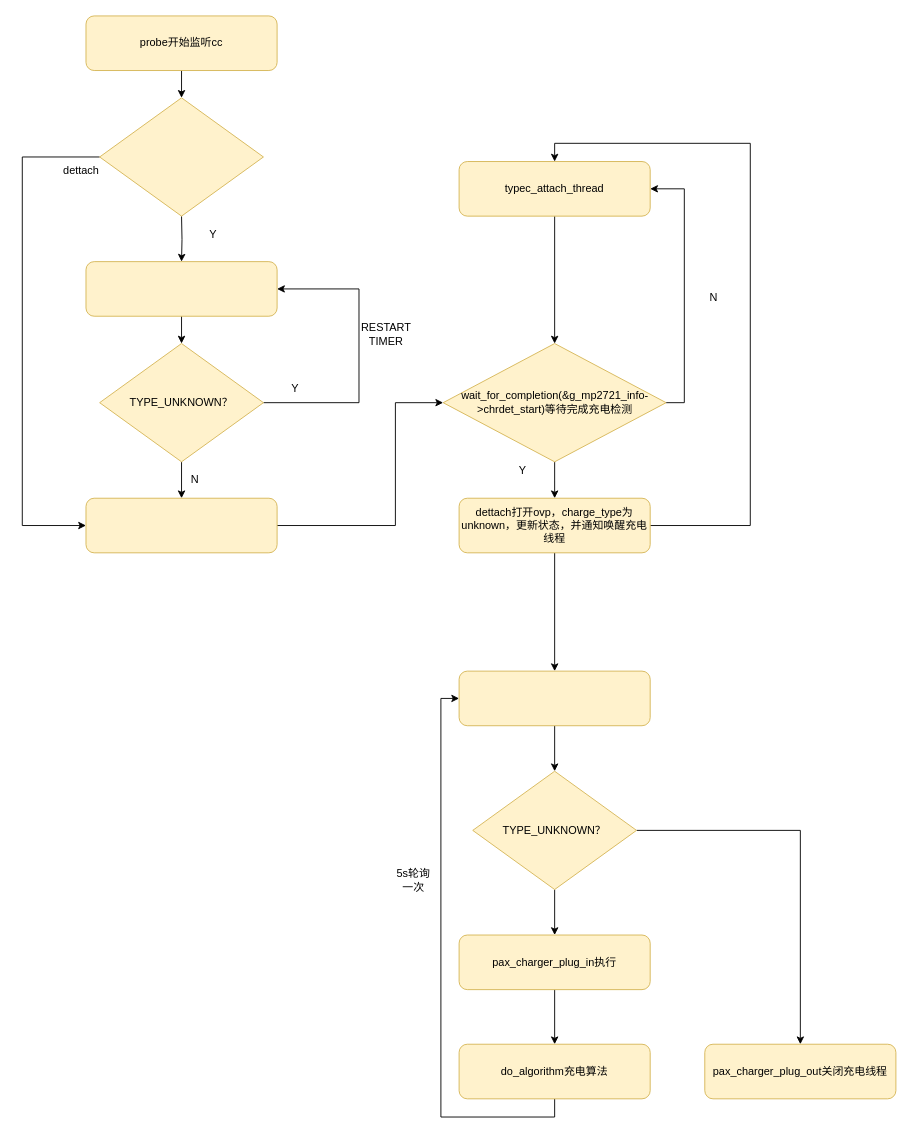
Image size: 912x1140. Some labels were removed from this diagram. The shapes that lost their labels are listed below. From the top down, each one's centre as x and y in pixels, then its label:
At (x=181, y=156): "typec cc检测到SNK attch？".
At (x=181, y=288): "pax_wait_bc12_start_timer启动timer轮询充电类型".
At (x=181, y=525): "complete(&g_mp2721_info->chrdet_start) 完成充电检测".
At (x=554, y=698): "charger_routine_thread检测充电类型".
